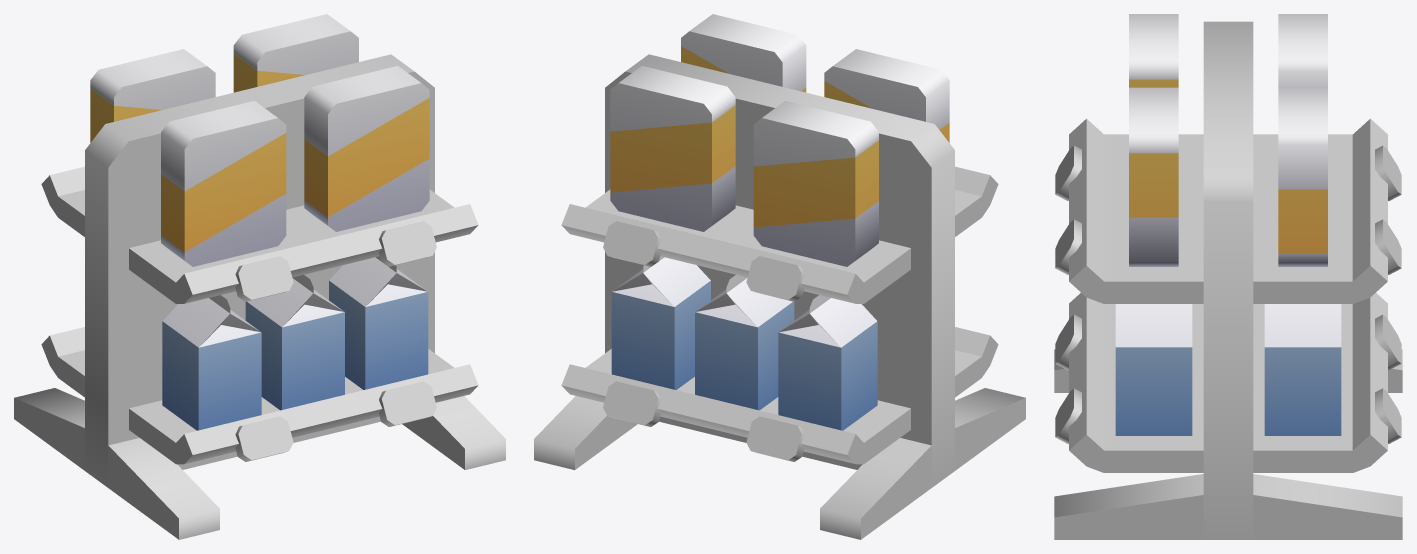
The model's file is shelf-boxes-finished.glb.
3 renders of one model, left to right at view 1: azimuth 30°, elevation 25°; view 2: azimuth 150°, elevation 25°; view 3: azimuth 270°, elevation 25°, orthographic. The views are drawn at different scales.
Parts seen in each view (by area): view 1: shelf-boxes, box.003, box.002, carton.002, carton, carton.001, box, box.001; view 2: shelf-boxes, box, box.001, carton.003, carton.004, carton.005, box.003, box.002; view 3: shelf-boxes, carton, carton.004, box.001, box.002, box, box.003.
Part boxes in pixels (<box>): shelf-boxes: <box>14,54,505,539</box>; box.003: <box>161,101,286,266</box>; box.002: <box>304,66,429,231</box>; carton.002: <box>162,295,261,430</box>; carton: <box>329,256,428,389</box>; carton.001: <box>245,274,344,410</box>; box: <box>90,49,215,142</box>; box.001: <box>233,14,358,92</box>; shelf-boxes: <box>534,54,1025,539</box>; box: <box>753,101,878,266</box>; box.001: <box>610,66,735,231</box>; carton.003: <box>778,295,877,430</box>; carton.004: <box>611,256,710,389</box>; carton.005: <box>695,274,794,410</box>; box.003: <box>824,49,949,142</box>; box.002: <box>681,14,806,92</box>; shelf-boxes: <box>1054,21,1402,539</box>; carton: <box>1115,304,1192,435</box>; carton.004: <box>1264,304,1341,435</box>; box.001: <box>1278,87,1327,266</box>; box.002: <box>1129,87,1178,266</box>; box: <box>1278,14,1327,87</box>; box.003: <box>1129,14,1178,87</box>.
Bounding box in the file's own units: 0.8 × 0.85 × 0.7.
Materials: 2 (1 with a texture image).
